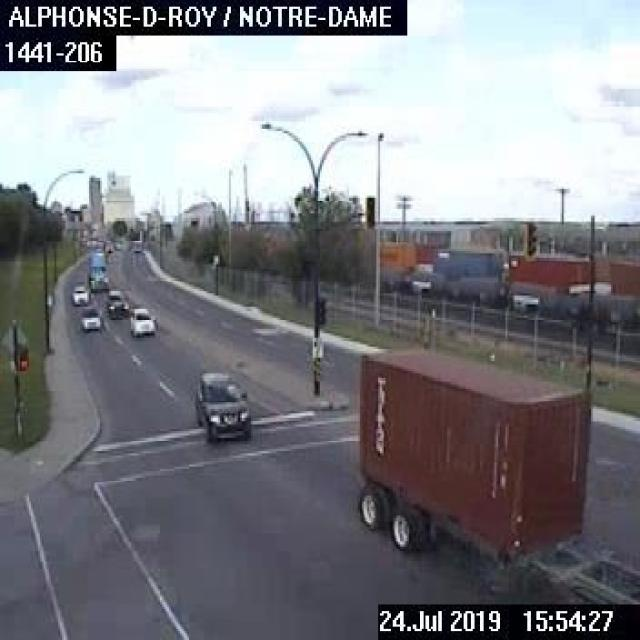vehicle: (353, 342, 638, 602), (189, 369, 251, 442), (125, 304, 156, 336), (86, 248, 108, 293), (103, 286, 128, 319), (78, 304, 101, 333), (70, 283, 86, 308)
